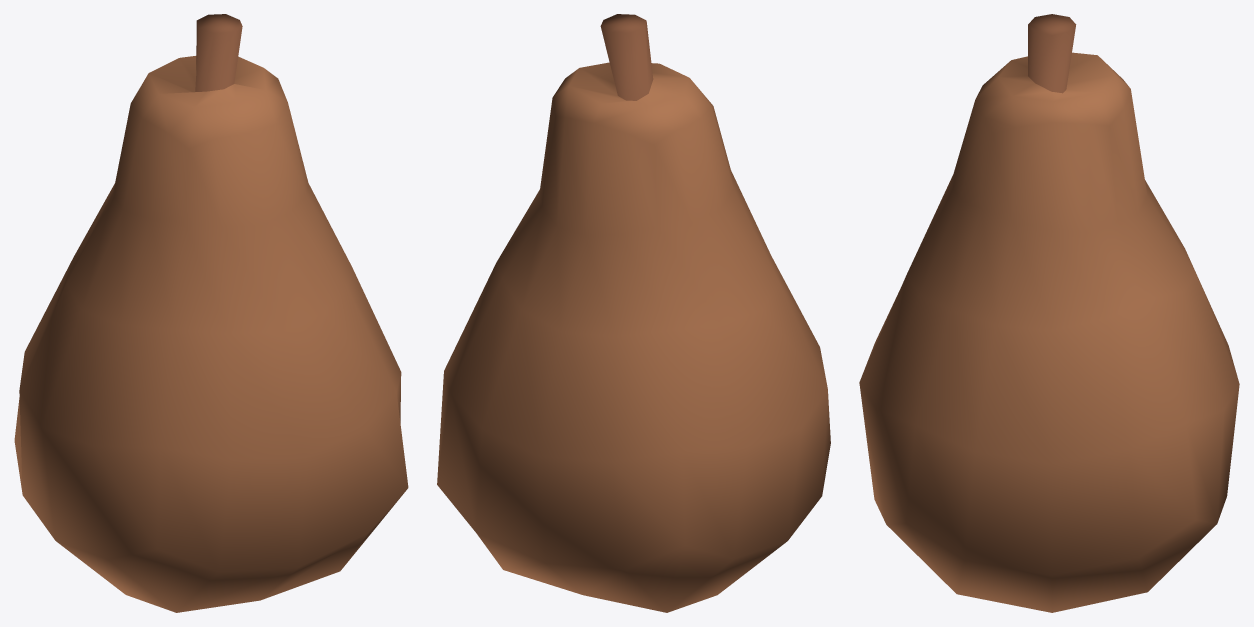
Rendered from Pear_Brown.glb.
The picture shows the model from 3 angles, left to right: view 1: azimuth 30°, elevation 25°; view 2: azimuth 150°, elevation 25°; view 3: azimuth 270°, elevation 25°; orthographic projection.
Visible parts, largest first — view 1: Pear_Brown; view 2: Pear_Brown; view 3: Pear_Brown.
Boxes of the visible parts, x1,y1,x2,y2 form: Pear_Brown: (14,14,408,612); Pear_Brown: (437,14,830,612); Pear_Brown: (859,14,1239,612).
Bounding box in the file's own units: 0.0656 × 0.1031 × 0.0644.
1 material, 1 textured.
